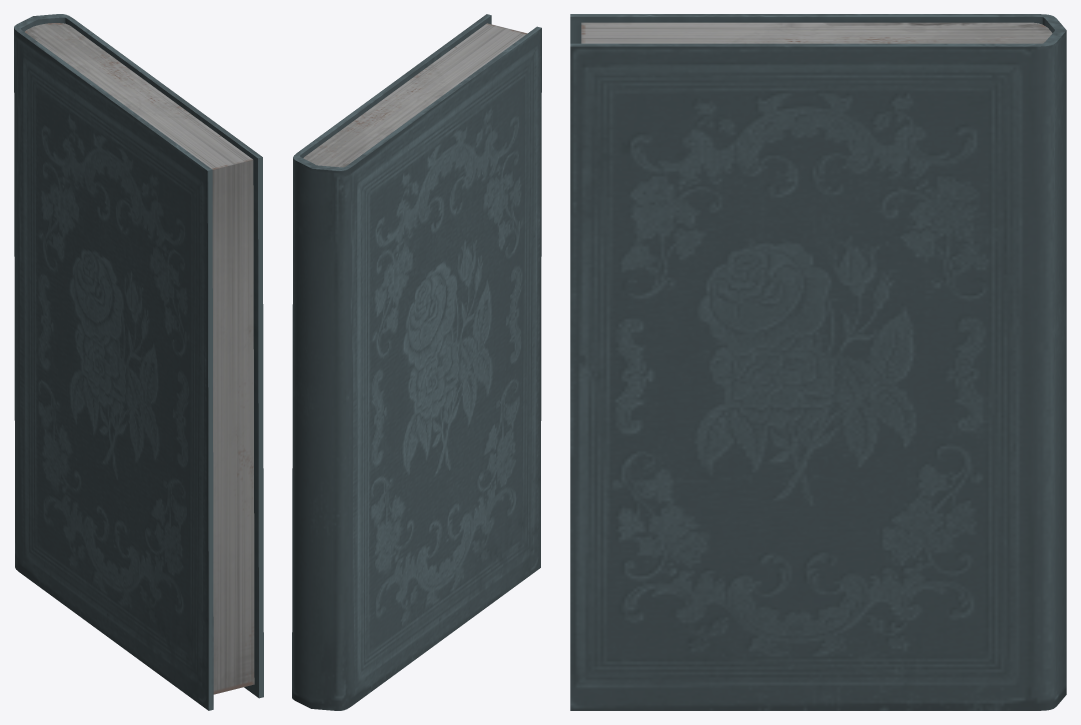
The model's file is SM_BookSet_A6.fbx.
3 views of the same model, side by side, from view 1: azimuth 30°, elevation 25°; view 2: azimuth 150°, elevation 25°; view 3: azimuth 270°, elevation 25° (orthographic). The views are drawn at different scales.
Visible parts, largest first — view 1: SM_BookSet_A6; view 2: SM_BookSet_A6; view 3: SM_BookSet_A6.
Boxes of the visible parts, x1,y1,x2,y2 form: SM_BookSet_A6: [14, 14, 263, 710]; SM_BookSet_A6: [292, 14, 541, 710]; SM_BookSet_A6: [570, 14, 1066, 710].
Bounding box in the file's own units: 2.51 × 15.64 × 23.08.
Materials: 1 (1 with a texture image).
